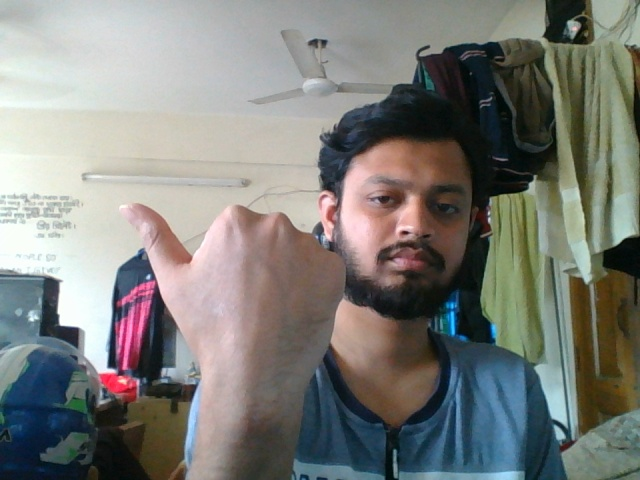do: (113, 189, 352, 467)
